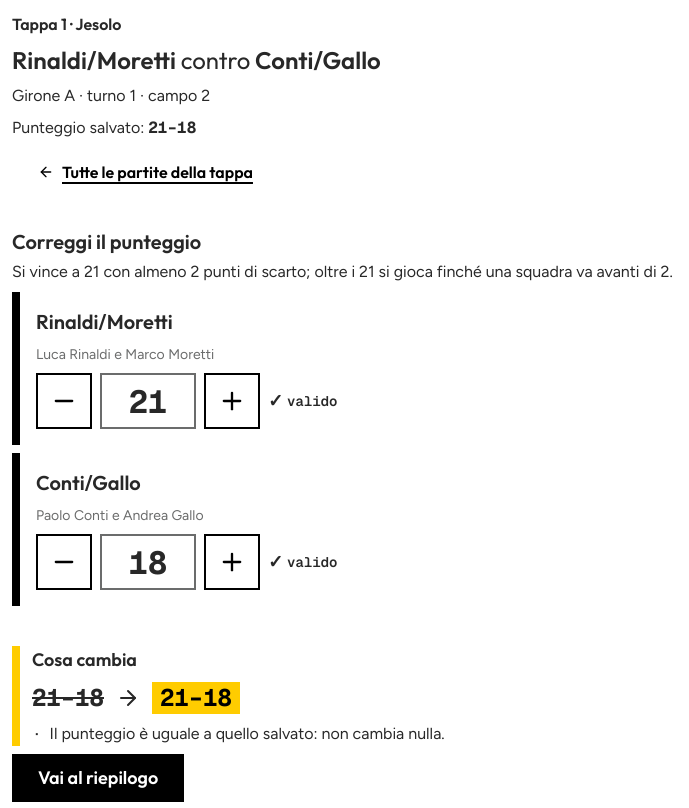
Scenario: correzione (w-admin-correzione) › vecchio valore barrato e nuovo, «Cosa cambia» segue i valori
Expected: the text with test id "valore-precedente" reads "21–18", 32,682 -> 104,713
Expected: the list item shows "uguale a quello salvato", 50,724 -> 445,743
Replace the text in the field labelled "Rinaldi/Moretti" with "10" at (148, 401), box 100,373 -> 196,429
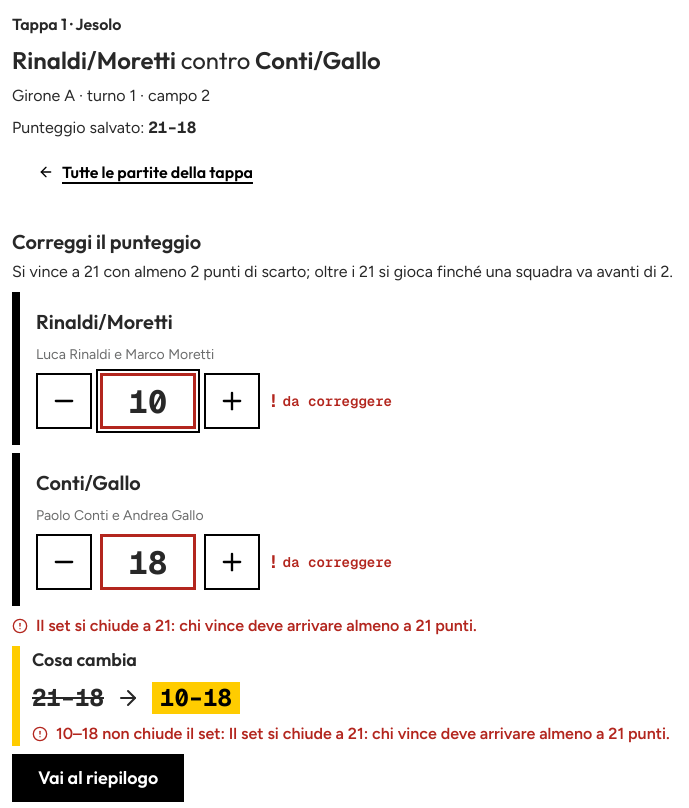
Replace the text in the field labelled "Conti/Gallo" with "21" at (148, 562), box 100,534 -> 196,590
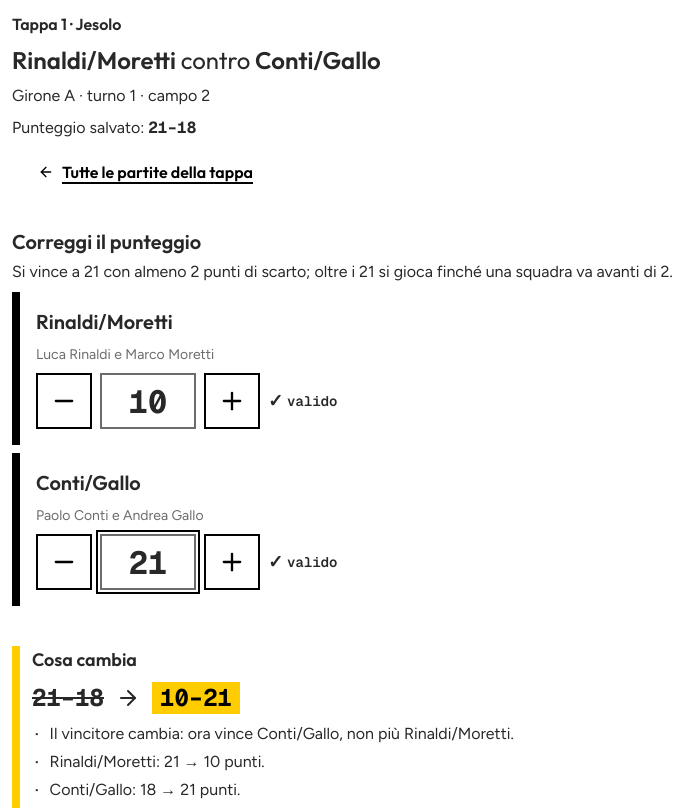
Result: the text with test id "valore-nuovo" reads "10–21" at 160,682 -> 232,713
